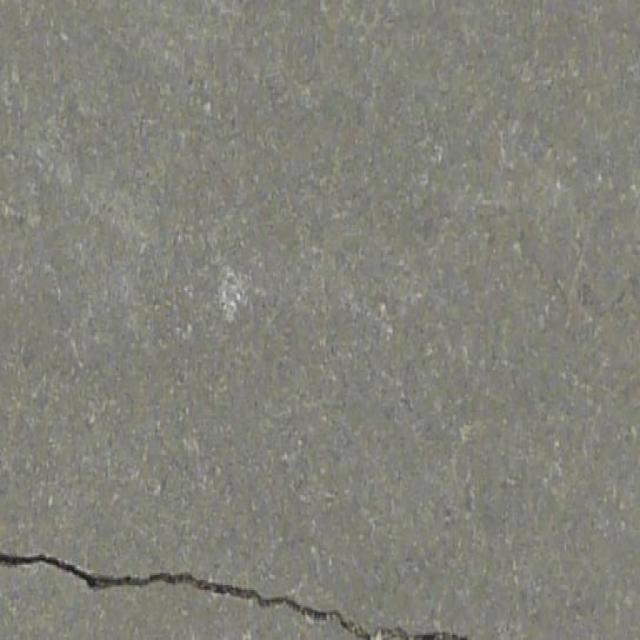Diagonal: (0, 525, 512, 640)
